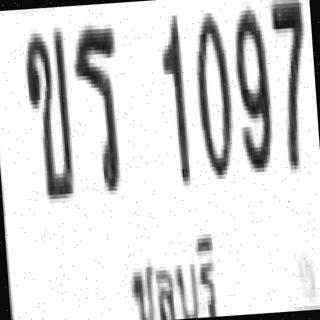A02: (21, 25, 74, 198)
A35: (69, 19, 124, 192)
N00: (190, 8, 234, 176)
N01: (157, 11, 188, 182)
N07: (268, 0, 310, 166)
N09: (231, 5, 273, 169)
P13: (122, 221, 228, 320)
